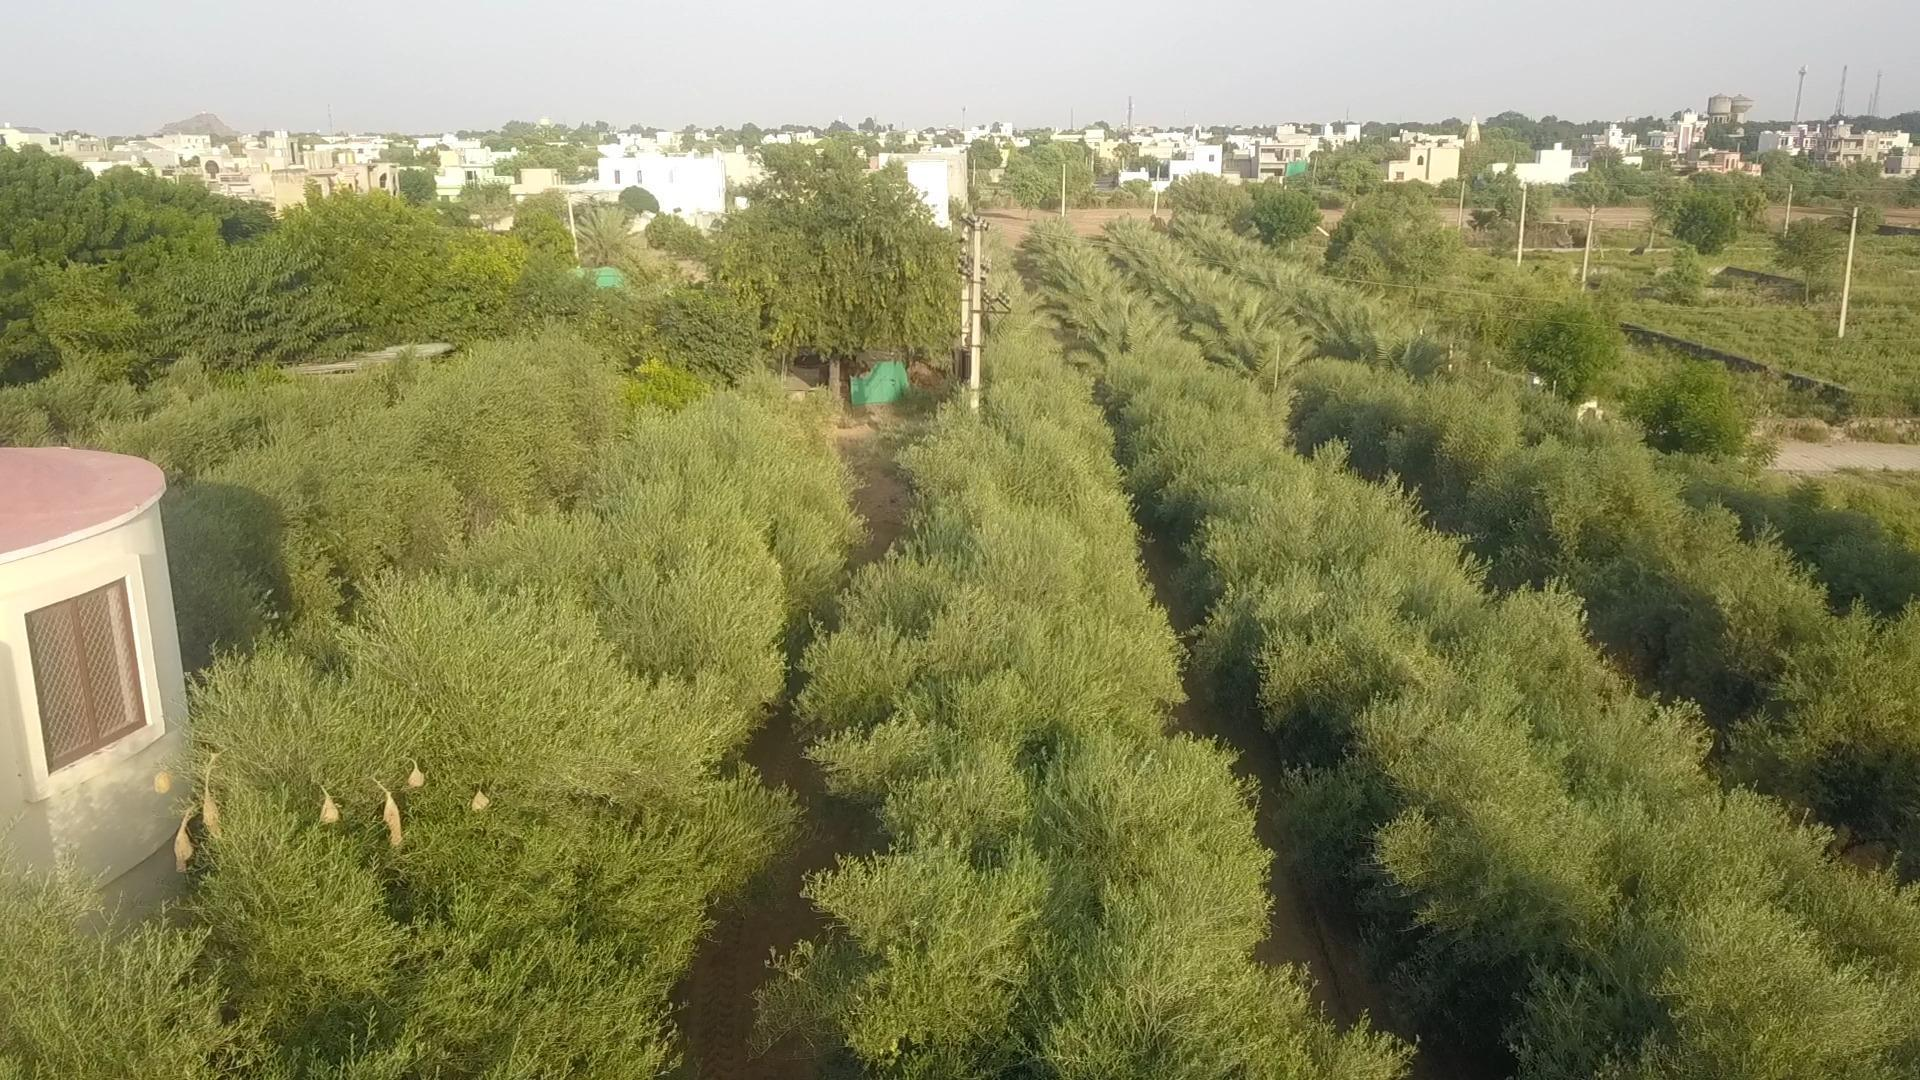canopy: (1091, 338, 1919, 1079), (0, 392, 862, 1079), (753, 334, 1315, 1079), (1288, 357, 1919, 870)
road: (674, 591, 884, 1079), (1175, 673, 1414, 1042)
